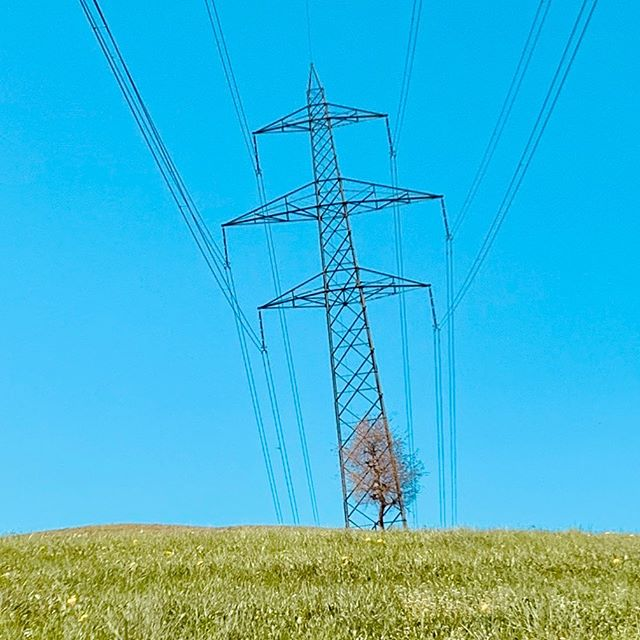grass: (1, 527, 640, 640)
power pole: (196, 81, 471, 524)
sky: (2, 1, 640, 521)
tree: (332, 413, 435, 532)
